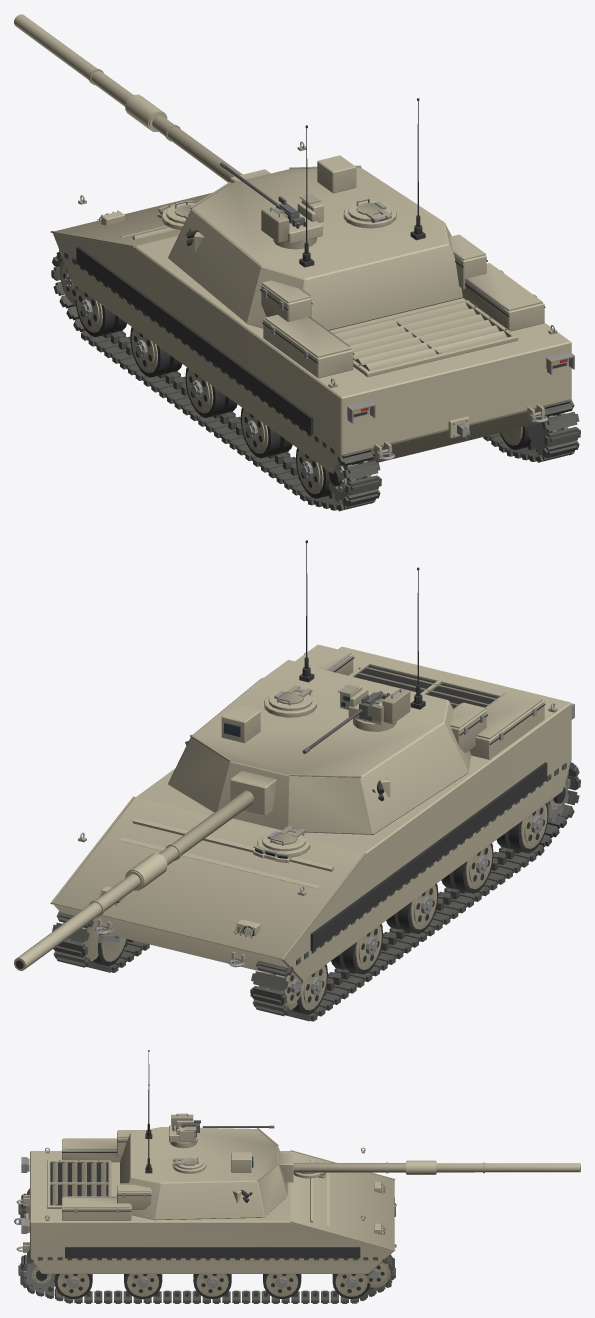
File: rus_td_sprutm.glb
3 renders of one model, top to bottom at view 1: azimuth 30°, elevation 25°; view 2: azimuth 150°, elevation 25°; view 3: azimuth 270°, elevation 25°, orthographic. The views are drawn at different scales.
Parts seen in each view (by area): view 1: body, turret, barrel; view 2: body, turret, barrel; view 3: body, turret, barrel.
Part boxes in pixels (box(x1,y1,x2,y2)): body: box(50, 141, 580, 511); turret: box(168, 98, 487, 330); barrel: box(14, 14, 270, 182); body: box(50, 644, 580, 1021); turret: box(168, 540, 487, 834); barrel: box(14, 771, 276, 970); body: box(14, 1138, 396, 1303); turret: box(117, 1050, 287, 1220); barrel: box(279, 1153, 580, 1182).
Bounding box in the file's own units: 2.97 × 3.82 × 9.79.
